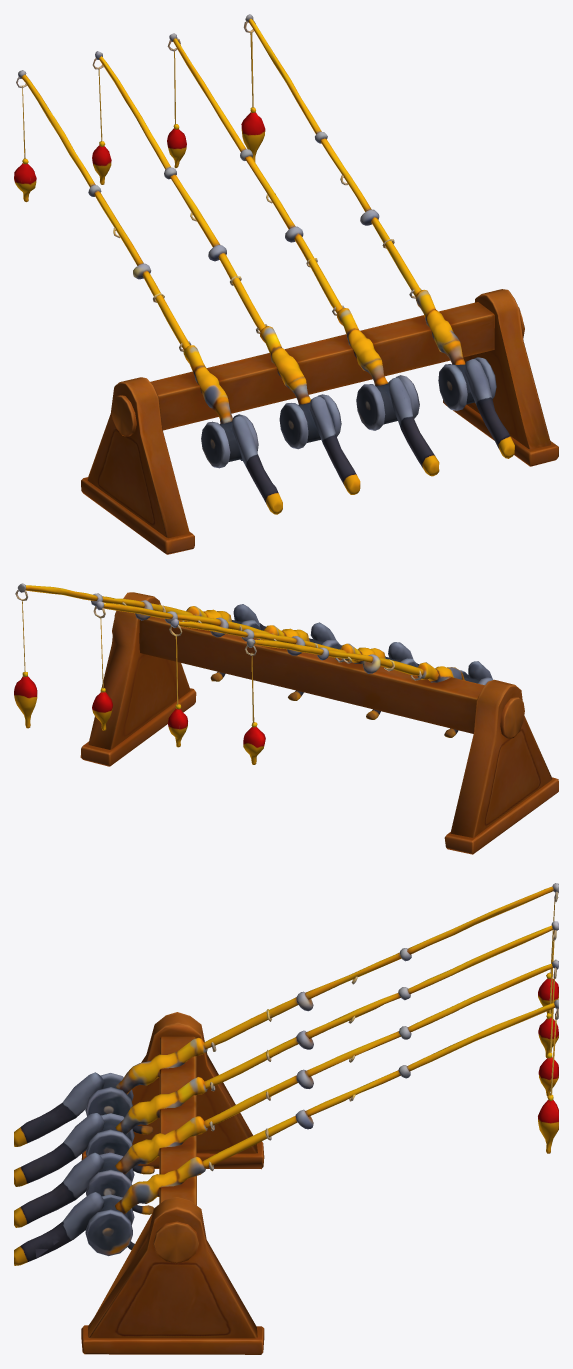
File: fishing_rack.glb
The picture shows the model from 3 angles, top to bottom: view 1: azimuth 30°, elevation 25°; view 2: azimuth 150°, elevation 25°; view 3: azimuth 270°, elevation 25°; orthographic projection. The views are drawn at different scales.
Parts seen in each view (by area): view 1: geometry_0; view 2: geometry_0; view 3: geometry_0.
Boxes of the visible parts, <box> form: geometry_0: <box>14,14,558,554</box>; geometry_0: <box>14,583,558,854</box>; geometry_0: <box>14,883,558,1354</box>.
Size of the model in its own units: 0.8733 by 0.6378 by 1.
1 material, 1 textured.
